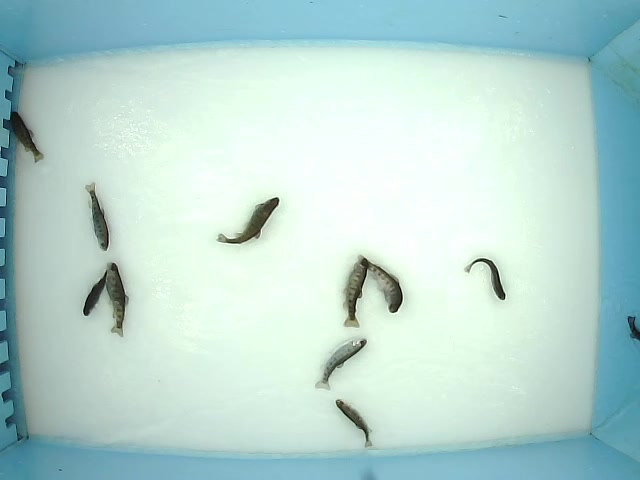fish: (215, 196, 280, 245), (313, 336, 369, 391), (356, 254, 404, 315), (342, 256, 369, 329), (9, 110, 45, 164), (335, 399, 374, 448), (463, 258, 506, 301), (105, 261, 129, 338), (85, 181, 111, 252), (83, 268, 110, 316)
